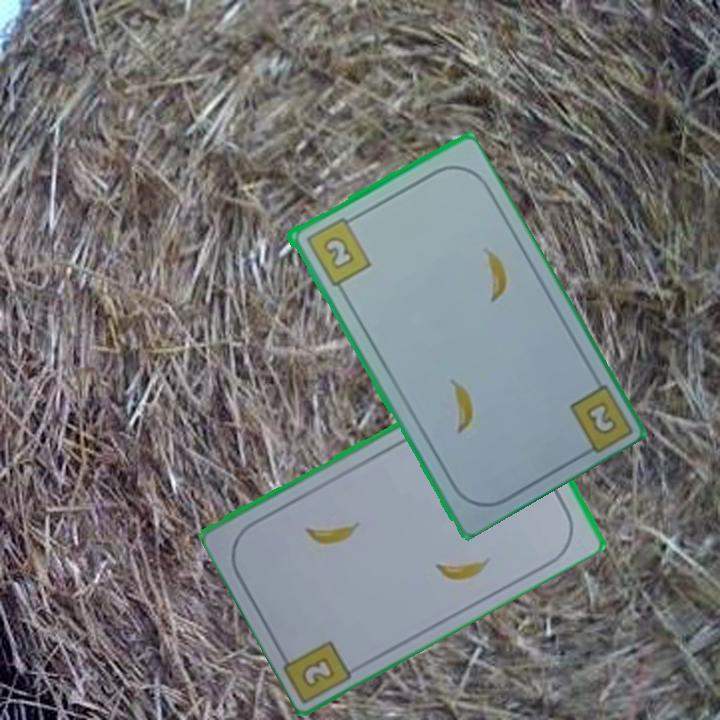2b: (565, 378, 633, 460), (302, 212, 373, 289), (297, 653, 338, 690)
